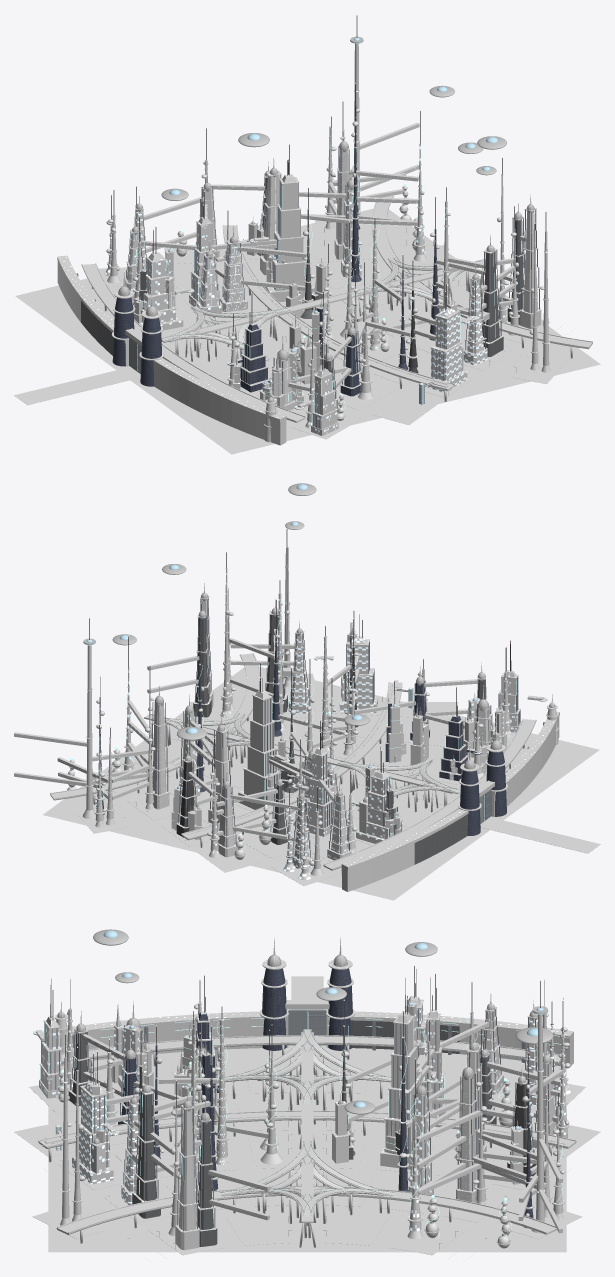
The model's file is Viertel_L2.fbx.
3 views of the same model, one above another, from view 1: azimuth 30°, elevation 25°; view 2: azimuth 150°, elevation 25°; view 3: azimuth 270°, elevation 25° (orthographic). The views are drawn at different scales.
Visible parts, largest first — view 1: Viertel_L2_Fassaden, Viertel_L2_Strasse, Viertel_L2_Details; view 2: Viertel_L2_Fassaden, Viertel_L2_Strasse, Viertel_L2_Details; view 3: Viertel_L2_Strasse, Viertel_L2_Fassaden, Viertel_L2_Details, Tor_West_Fluegel_Links, Tor_West_Fluegel_Rechts.
Part boxes in pixels (box(x1,y1,x2,y2)): Viertel_L2_Fassaden: box(57, 43, 550, 445); Viertel_L2_Strasse: box(14, 195, 600, 454); Viertel_L2_Details: box(76, 14, 574, 428); Viertel_L2_Fassaden: box(67, 547, 559, 891); Viertel_L2_Strasse: box(43, 653, 600, 900); Viertel_L2_Details: box(14, 483, 558, 876); Viertel_L2_Strasse: box(14, 976, 600, 1258); Viertel_L2_Fassaden: box(39, 968, 573, 1250); Viertel_L2_Details: box(33, 929, 570, 1249); Tor_West_Fluegel_Links: box(307, 1009, 326, 1045); Tor_West_Fluegel_Rechts: box(288, 1009, 307, 1045).
Size of the model in its own units: 85980 by 37123 by 72458.
